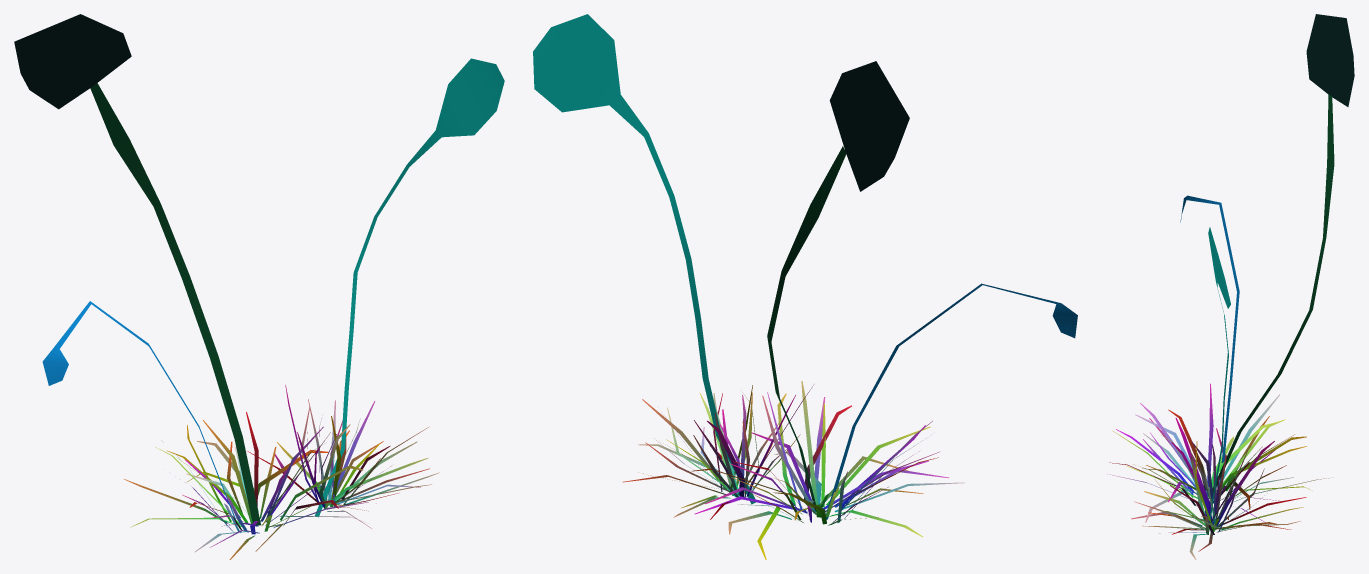
The model's file is Sea_Thrift_vkbgaihha_Mid_vkbgaihha_VarG_LOD2.fbx.
The picture shows the model from 3 angles, left to right: view 1: azimuth 30°, elevation 25°; view 2: azimuth 150°, elevation 25°; view 3: azimuth 270°, elevation 25°; orthographic projection. The views are drawn at different scales.
Visible parts, largest first — view 1: _5aml_VarG_LOD3; view 2: _5aml_VarG_LOD3; view 3: _5aml_VarG_LOD3.
Boxes of the visible parts, <box> form: _5aml_VarG_LOD3: <box>14,14,504,559</box>; _5aml_VarG_LOD3: <box>533,14,1077,559</box>; _5aml_VarG_LOD3: <box>1107,14,1354,559</box>.
Bounding box in the file's own units: 13.36 × 13.19 × 6.73.
